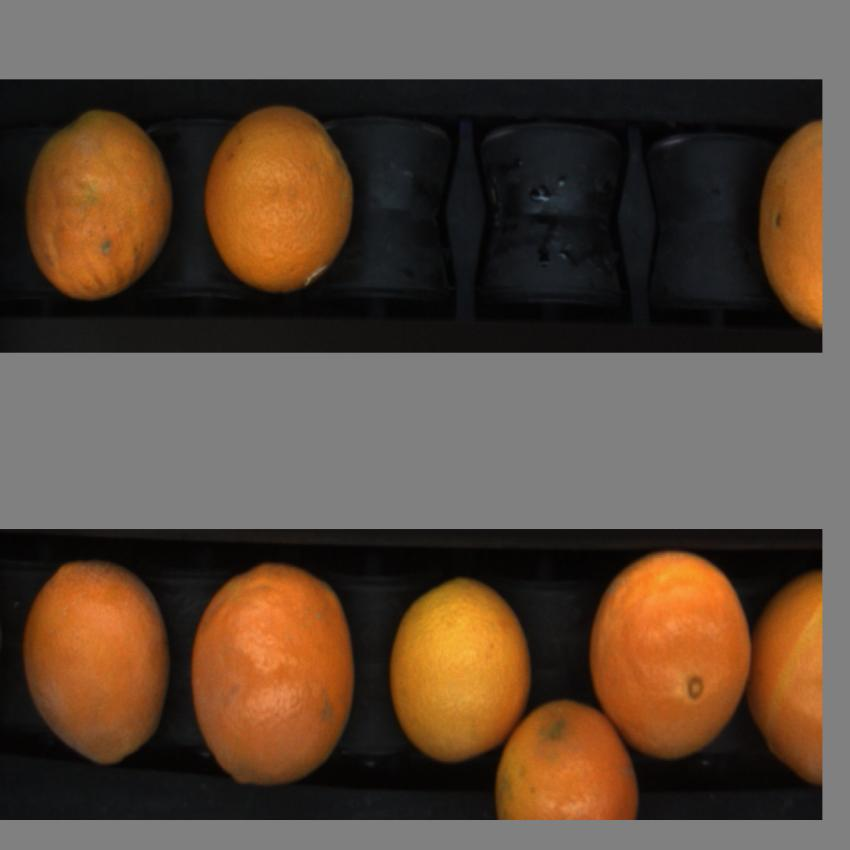Buen estado: (587, 557, 753, 760), (202, 101, 365, 306), (385, 566, 532, 764), (494, 689, 642, 819), (750, 573, 824, 784), (755, 115, 823, 336)
Mal estado: (184, 567, 364, 793), (21, 554, 171, 775), (23, 107, 177, 309)
